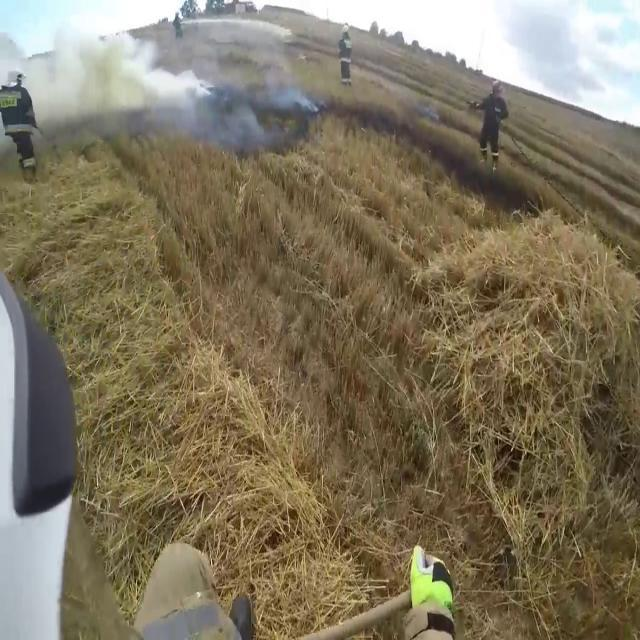Smoke: (6, 2, 312, 153)
